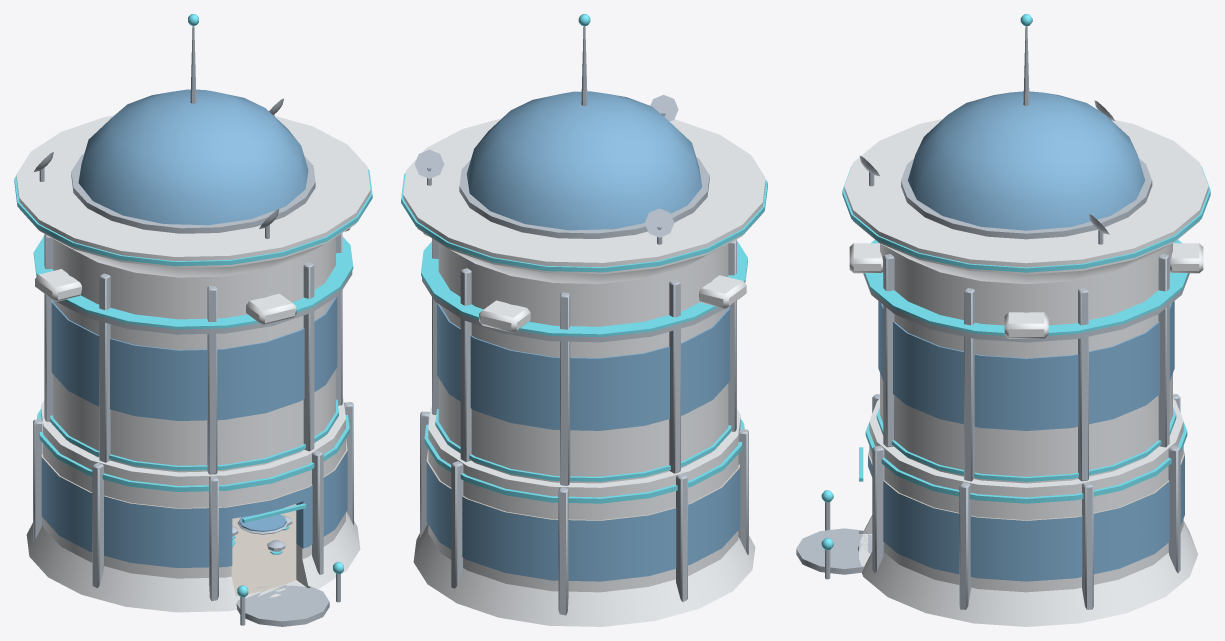
Rendered from TalasaBloque.fbx.
3 renders of one model, left to right at view 1: azimuth 30°, elevation 25°; view 2: azimuth 150°, elevation 25°; view 3: azimuth 270°, elevation 25°, orthographic. The views are drawn at different scales.
Visible parts, largest first — view 1: TalasaBloque_Medio_Cuerpo, TalasaBloque_Tope_Cristal, TalasaBloque_Tope_Cuerpo, TalasaBloque_Base_Cuerpo, TalasaBloque_Medio_Cristal, TalasaBloque_Base_Cristal, TalasaBloque_Medio_Metal, TalasaBloque_Base_Metal, TalasaBloque_Medio_Luz, TalasaBloque_Base_Forro, TalasaBloque_Tope_Metal, TalasaBloque_Base_Luz (+1 smaller); view 2: TalasaBloque_Medio_Cuerpo, TalasaBloque_Tope_Cristal, TalasaBloque_Base_Cuerpo, TalasaBloque_Tope_Cuerpo, TalasaBloque_Medio_Cristal, TalasaBloque_Base_Cristal, TalasaBloque_Medio_Metal, TalasaBloque_Base_Metal, TalasaBloque_Medio_Luz, TalasaBloque_Tope_Metal, TalasaBloque_Tope_Luz, TalasaBloque_Base_Luz; view 3: TalasaBloque_Medio_Cuerpo, TalasaBloque_Tope_Cristal, TalasaBloque_Base_Cuerpo, TalasaBloque_Tope_Cuerpo, TalasaBloque_Medio_Cristal, TalasaBloque_Base_Cristal, TalasaBloque_Medio_Metal, TalasaBloque_Base_Metal, TalasaBloque_Medio_Luz, TalasaBloque_Tope_Metal, TalasaBloque_Base_Luz, TalasaBloque_Tope_Luz.
Part boxes in pixels (x1=…): TalasaBloque_Medio_Cuerpo: x1=35, y1=227, x2=350, y2=472; TalasaBloque_Tope_Cristal: x1=78, y1=89, x2=308, y2=225; TalasaBloque_Tope_Cuerpo: x1=16, y1=115, x2=370, y2=286; TalasaBloque_Base_Cuerpo: x1=26, y1=398, x2=360, y2=612; TalasaBloque_Medio_Cristal: x1=51, y1=296, x2=337, y2=420; TalasaBloque_Base_Cristal: x1=41, y1=451, x2=347, y2=567; TalasaBloque_Medio_Metal: x1=44, y1=233, x2=352, y2=474; TalasaBloque_Base_Metal: x1=33, y1=402, x2=353, y2=626; TalasaBloque_Medio_Luz: x1=33, y1=236, x2=353, y2=470; TalasaBloque_Base_Forro: x1=41, y1=439, x2=347, y2=595; TalasaBloque_Tope_Metal: x1=33, y1=26, x2=315, y2=238; TalasaBloque_Base_Luz: x1=37, y1=409, x2=349, y2=597; TalasaBloque_Medio_Cuerpo: x1=423, y1=232, x2=746, y2=483; TalasaBloque_Tope_Cristal: x1=466, y1=91, x2=702, y2=230; TalasaBloque_Base_Cuerpo: x1=413, y1=407, x2=755, y2=626; TalasaBloque_Tope_Cuerpo: x1=403, y1=118, x2=765, y2=293; TalasaBloque_Medio_Cristal: x1=437, y1=303, x2=729, y2=430; TalasaBloque_Base_Cristal: x1=426, y1=461, x2=740, y2=581; TalasaBloque_Medio_Metal: x1=422, y1=238, x2=736, y2=485; TalasaBloque_Base_Metal: x1=420, y1=411, x2=748, y2=615; TalasaBloque_Medio_Luz: x1=421, y1=241, x2=747, y2=481; TalasaBloque_Tope_Metal: x1=414, y1=26, x2=709, y2=244; TalasaBloque_Tope_Luz: x1=401, y1=14, x2=767, y2=272; TalasaBloque_Base_Luz: x1=424, y1=418, x2=744, y2=503; TalasaBloque_Medio_Cuerpo: x1=849, y1=243, x2=1203, y2=483; TalasaBloque_Tope_Cristal: x1=908, y1=91, x2=1145, y2=230; TalasaBloque_Base_Cuerpo: x1=858, y1=399, x2=1197, y2=626; TalasaBloque_Tope_Cuerpo: x1=844, y1=119, x2=1208, y2=293; TalasaBloque_Medio_Cristal: x1=878, y1=301, x2=1174, y2=430; TalasaBloque_Base_Cristal: x1=868, y1=455, x2=1184, y2=581; TalasaBloque_Medio_Metal: x1=863, y1=254, x2=1189, y2=481; TalasaBloque_Base_Metal: x1=796, y1=394, x2=1180, y2=609; TalasaBloque_Medio_Luz: x1=864, y1=240, x2=1188, y2=481; TalasaBloque_Tope_Metal: x1=859, y1=26, x2=1152, y2=244; TalasaBloque_Base_Luz: x1=821, y1=416, x2=1187, y2=550; TalasaBloque_Tope_Luz: x1=842, y1=14, x2=1210, y2=272.
Size of the model in its own units: 3520 by 5690 by 3960.
